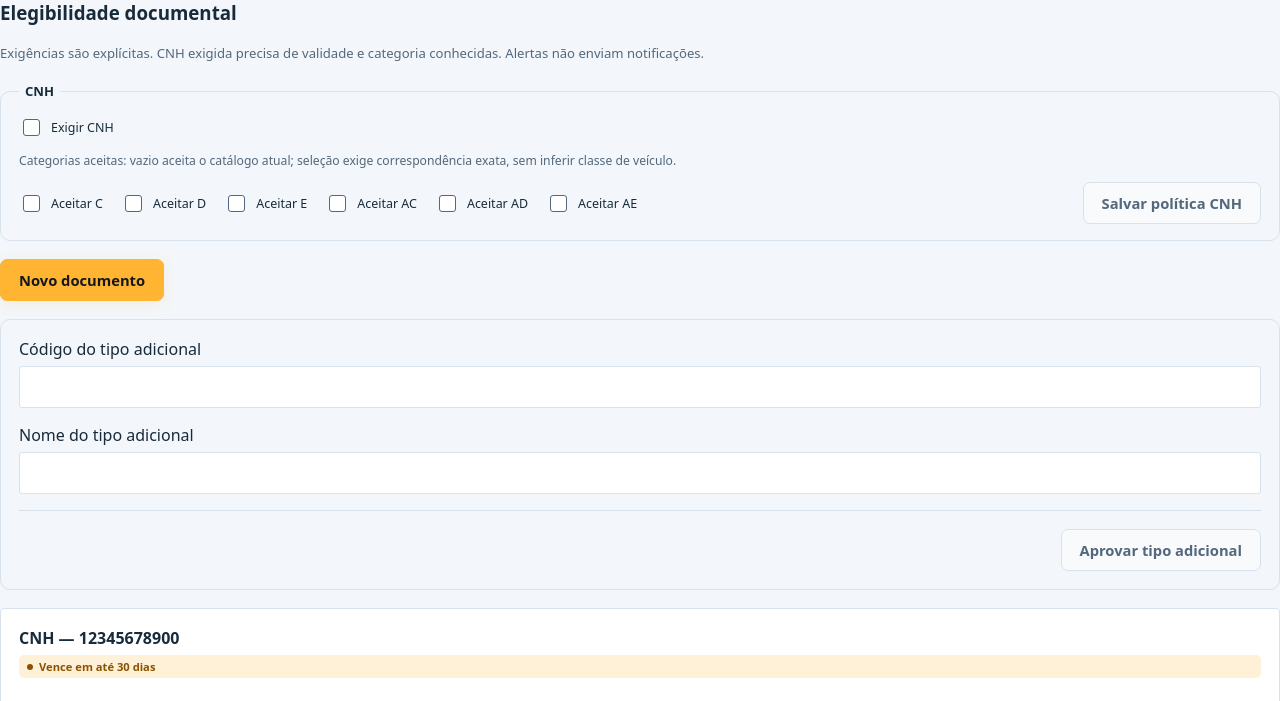
Test: apresenta vazio, vencimento próximo e falha de escrita
Expected: the text "Vence em até 30 dias" is shown, [39, 659, 156, 674]
Click the button "Salvar política CNH" at (1172, 203), box [1083, 182, 1261, 224]
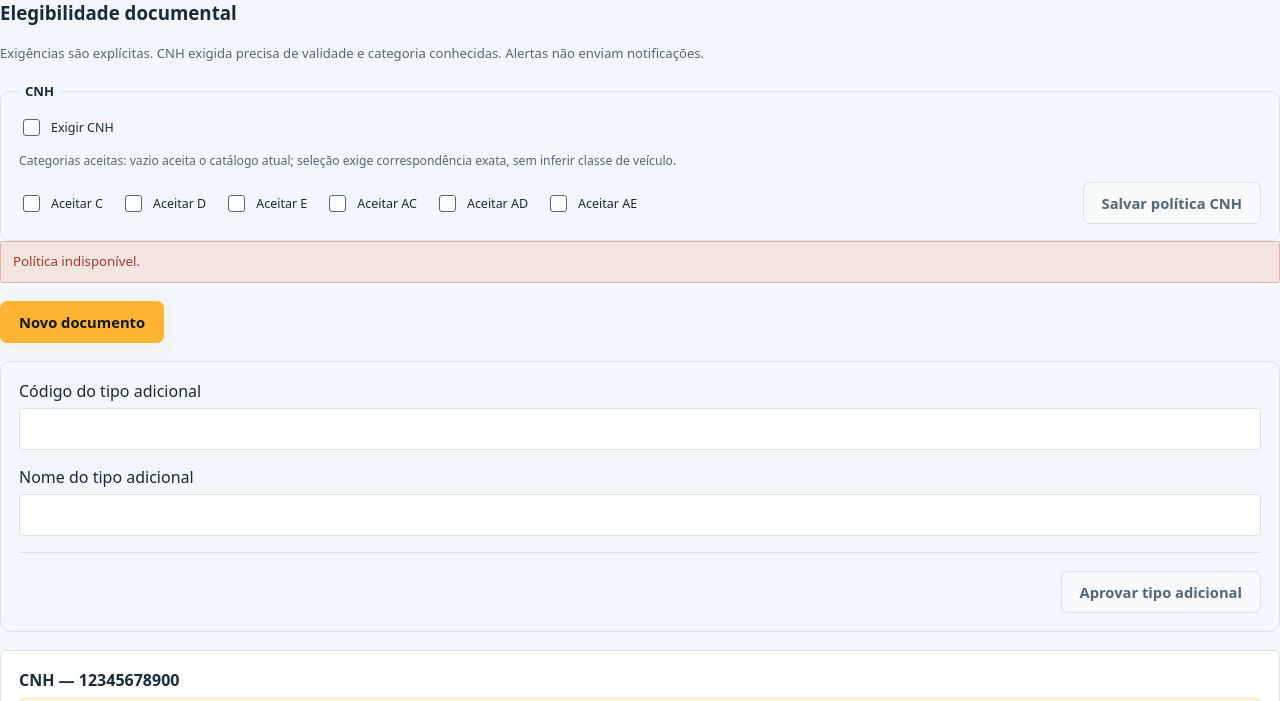
Result: the text "Política indisponível." is shown at [0, 241, 1279, 283]
